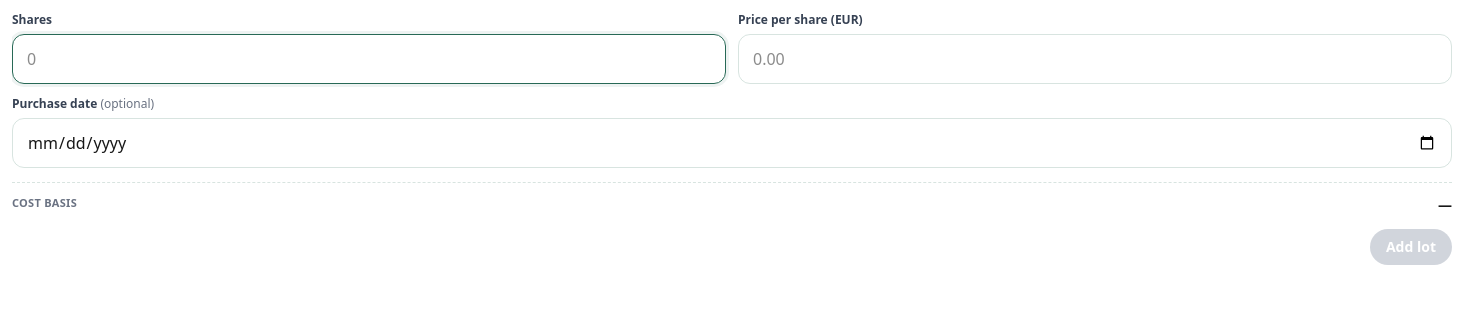
LotForm › blocks a purchase date in the future
Type "1" into the field labelled "Shares". click: (369,59)
box: [12,34,726,84]
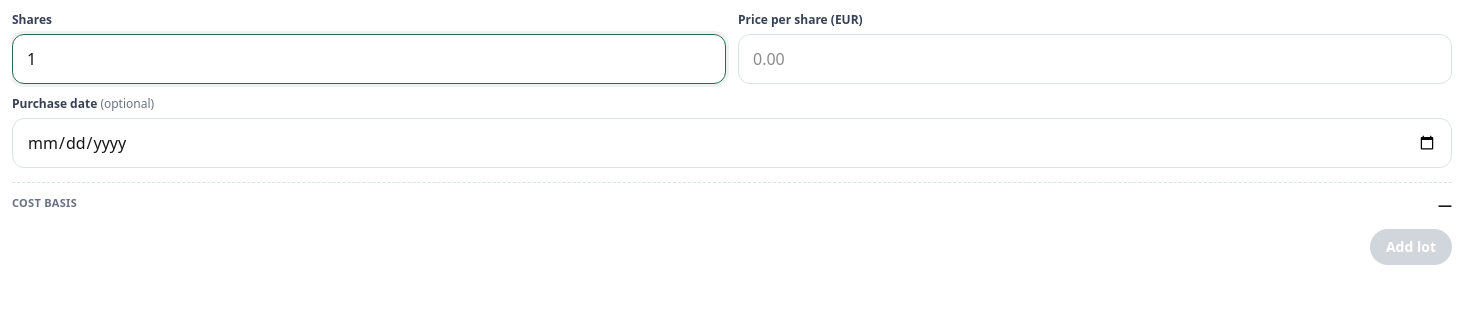
Type "2" into the field labelled "Price per share (EUR)". click: (1095,59)
box: [738,34,1452,84]
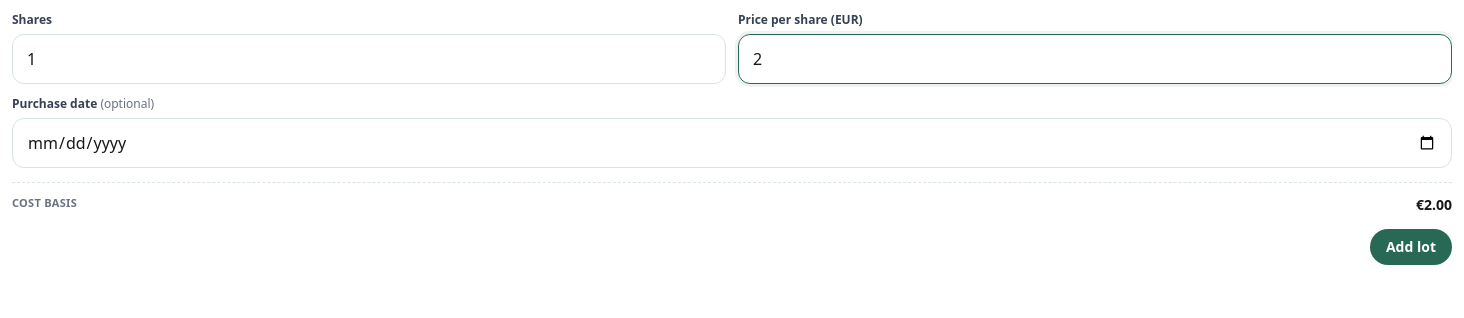
Type "2026-10-01" into the date field labelled "Purchase date (optional)". click: (732,143)
box: [12,118,1452,168]
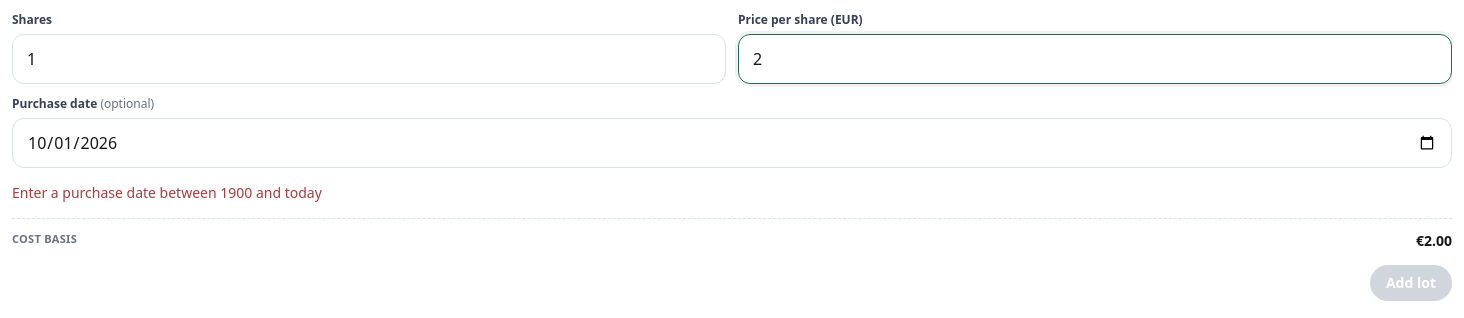
Expected: the text "Enter a purchase date between 1900 and today" is shown, [12,183,322,202]
Expected: the button "Add lot" is disabled, [1370,265,1452,301]
Type "2026-09-30" into the date field labelled "Purchase date (optional)". click: (732,143)
box: [12,118,1452,168]
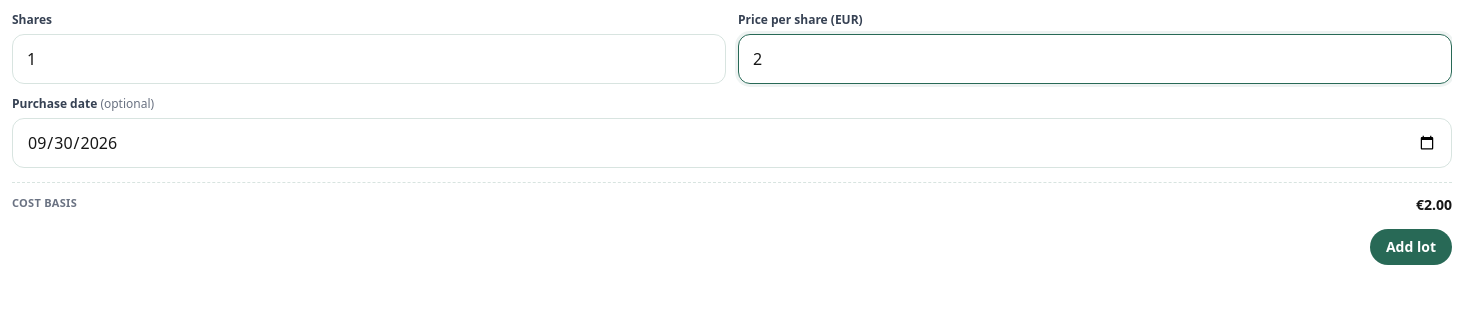
Expected: the button "Add lot" is enabled, [1370,229,1452,265]
